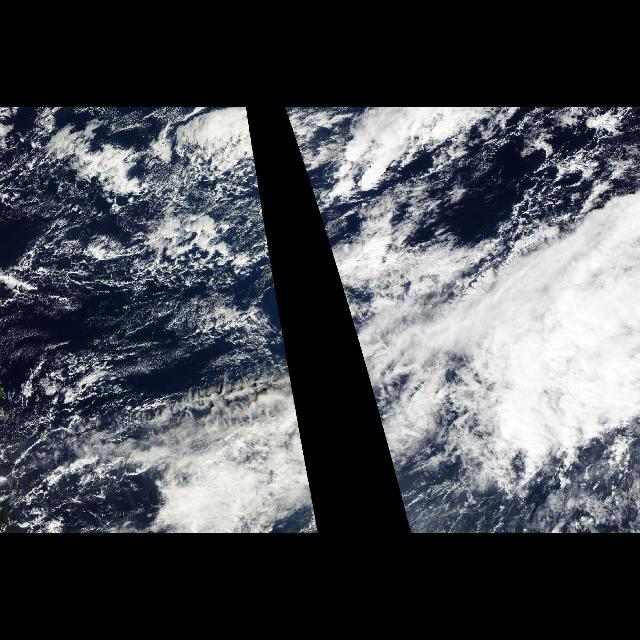Fish: (283, 109, 553, 297), (56, 109, 278, 297)
